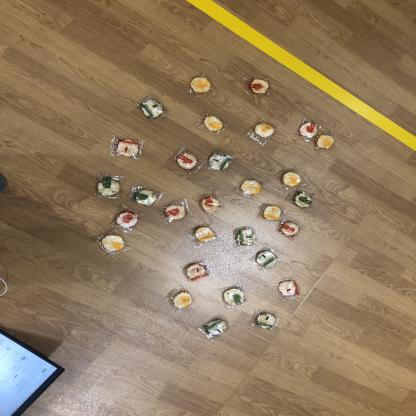green_setoshio: (135, 96, 170, 122), (94, 173, 126, 200), (128, 184, 162, 209), (201, 316, 232, 340), (220, 285, 250, 308), (254, 247, 282, 270), (252, 310, 280, 332), (232, 226, 258, 248), (207, 152, 233, 173), (289, 192, 314, 210)
red_setoshio: (112, 136, 146, 162), (171, 150, 203, 174), (113, 208, 141, 232), (276, 279, 304, 302), (182, 262, 212, 282), (278, 219, 304, 242), (198, 193, 223, 214), (163, 203, 189, 222), (246, 77, 272, 95), (297, 121, 319, 140)
yellow_setoshio: (198, 113, 229, 136), (186, 72, 215, 96), (166, 288, 195, 312), (100, 233, 130, 256), (249, 121, 278, 144), (192, 223, 221, 245), (261, 203, 284, 223), (279, 170, 303, 187), (240, 179, 262, 196), (318, 133, 337, 152)
